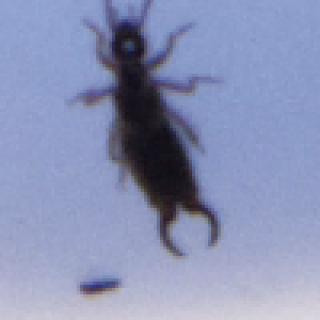earwig: (63, 0, 232, 262)
